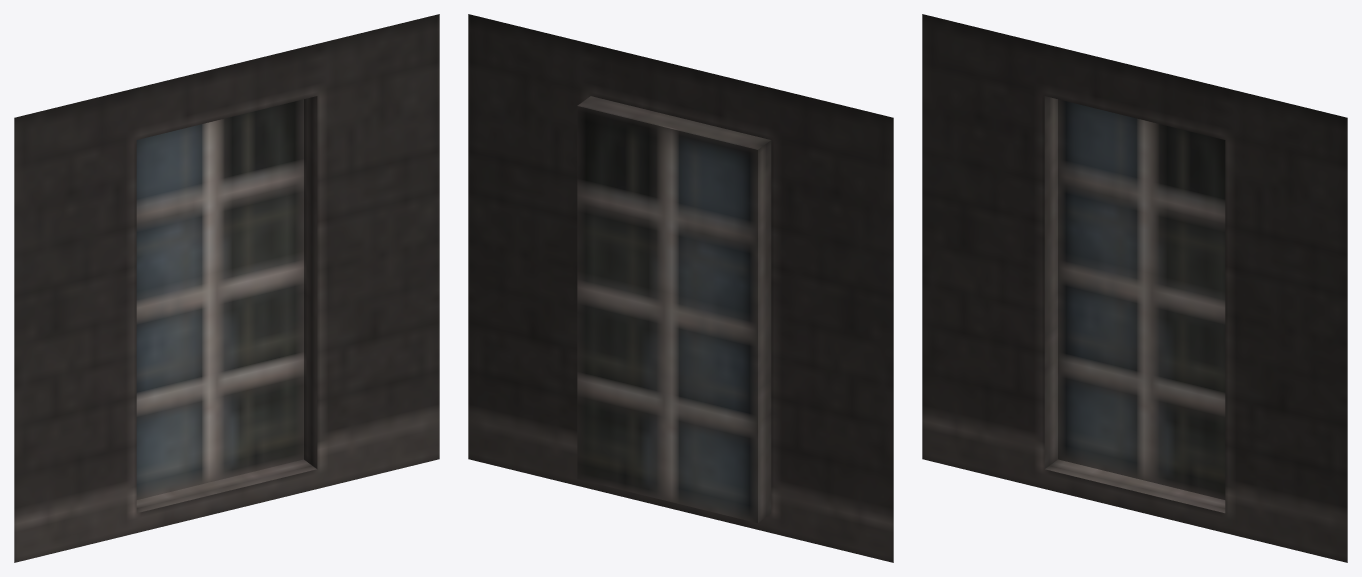
The model's file is B7_WindowDoor.FBX.
3 views of the same model, side by side, from view 1: azimuth 30°, elevation 25°; view 2: azimuth 150°, elevation 25°; view 3: azimuth 330°, elevation 25° (orthographic).
Parts seen in each view (by area): view 1: B7_WindowDoor; view 2: B7_WindowDoor; view 3: B7_WindowDoor.
Part boxes in pixels (bbox=[...]): B7_WindowDoor: bbox=[14, 14, 439, 562]; B7_WindowDoor: bbox=[468, 14, 893, 562]; B7_WindowDoor: bbox=[922, 14, 1347, 562].
Size of the model in its own units: 4 by 4 by 0.2192.
